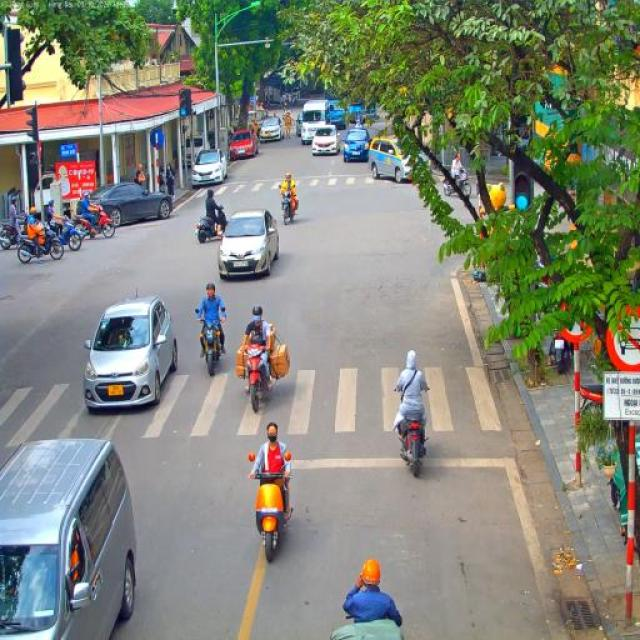car: (0, 435, 138, 640), (82, 295, 178, 414), (218, 208, 280, 281), (82, 181, 174, 227), (368, 136, 418, 184), (192, 148, 228, 186), (228, 129, 260, 162), (342, 128, 371, 164), (310, 124, 340, 157), (258, 116, 284, 142), (328, 110, 347, 130), (247, 110, 265, 126)
motorcycle: (247, 452, 292, 562), (393, 385, 432, 477), (194, 306, 227, 378), (242, 342, 274, 412), (16, 224, 65, 264), (72, 202, 116, 239), (45, 215, 84, 251), (194, 204, 227, 243), (0, 210, 31, 250), (550, 327, 572, 377), (442, 166, 472, 199), (580, 382, 604, 413), (280, 190, 298, 226), (281, 102, 287, 117), (288, 97, 292, 109)
truck: (298, 99, 332, 145), (263, 70, 302, 106), (346, 92, 378, 124)
